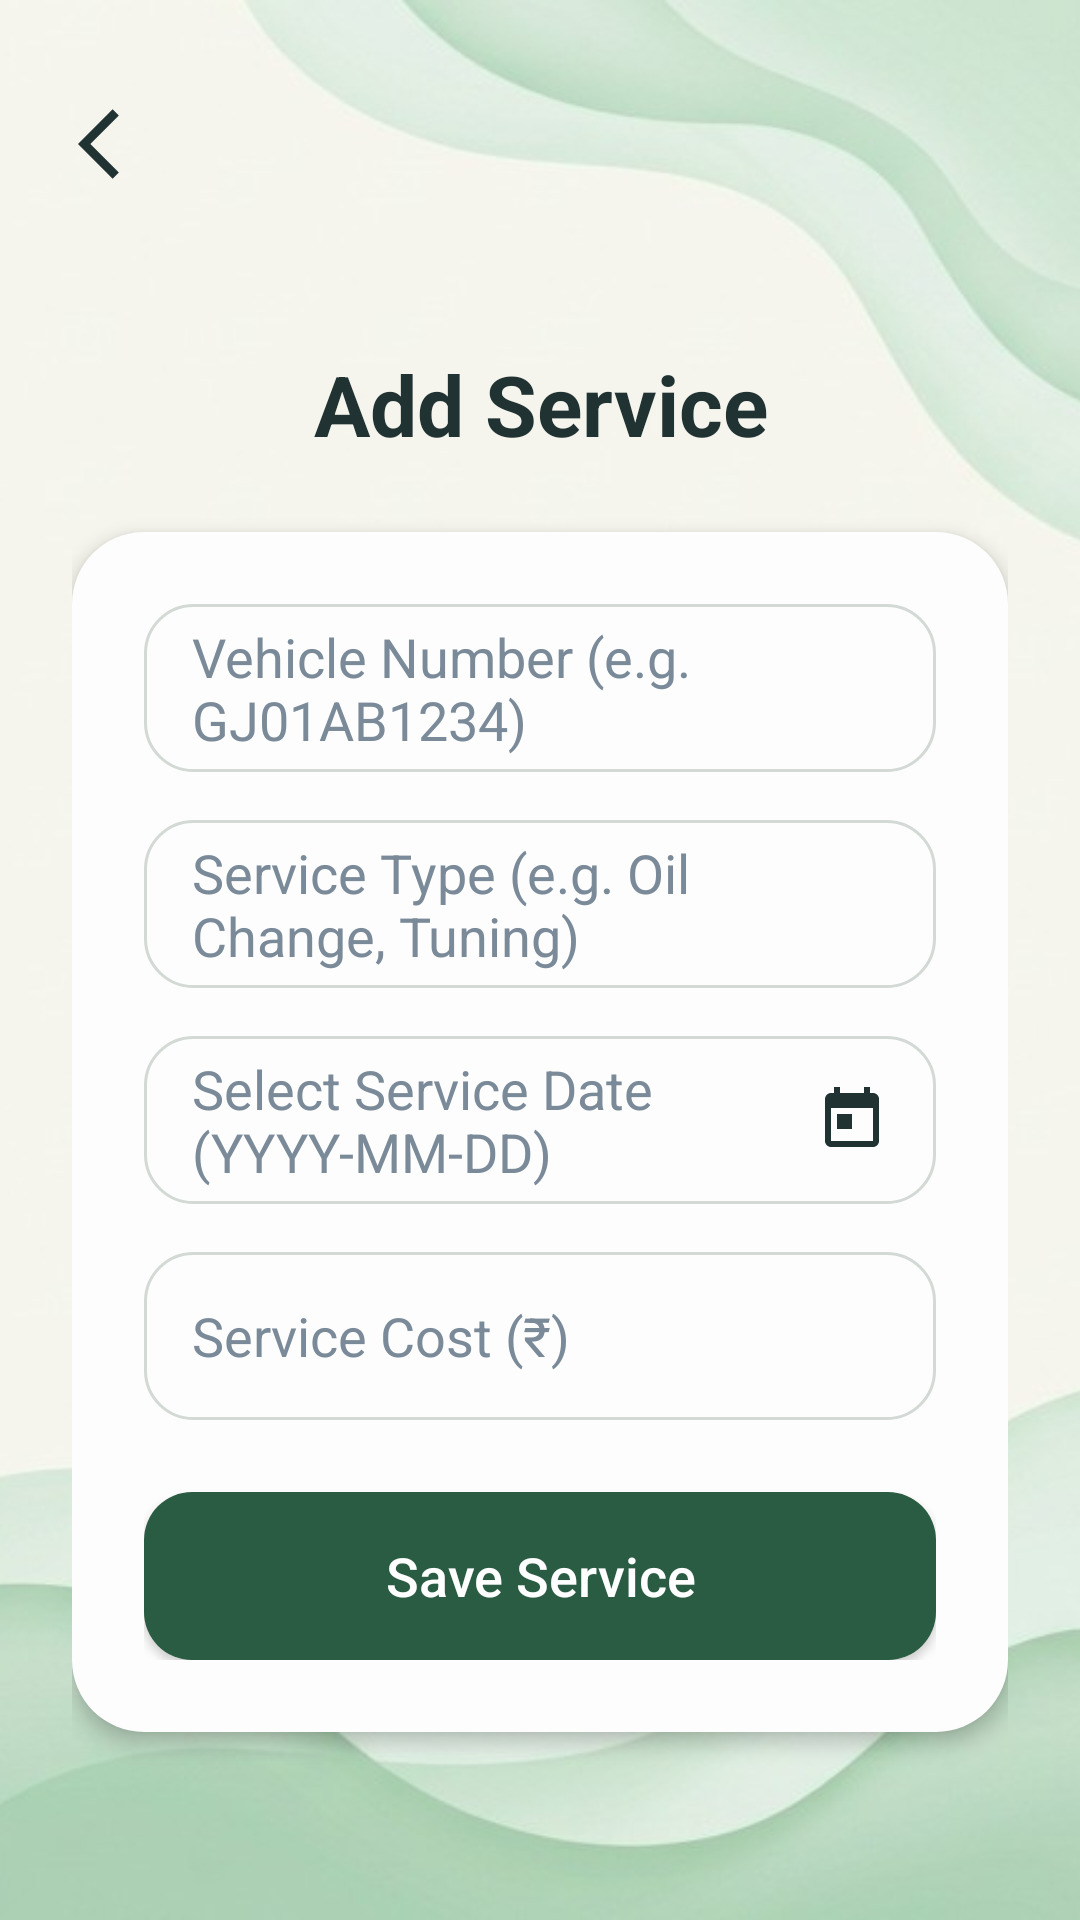

Point at icon controls on the screen. Image size 1080w x 1920h, points as (x,y).
Back: (98,144)
